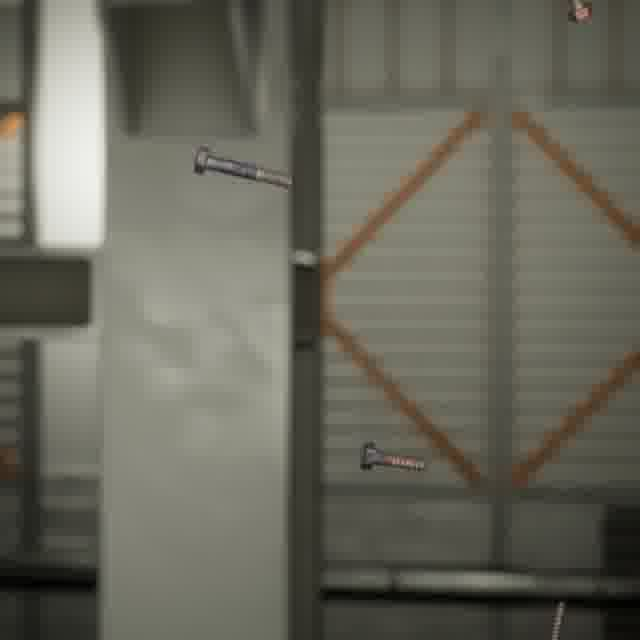bolt: (189, 142, 297, 192), (354, 437, 432, 476), (562, 0, 598, 27)
